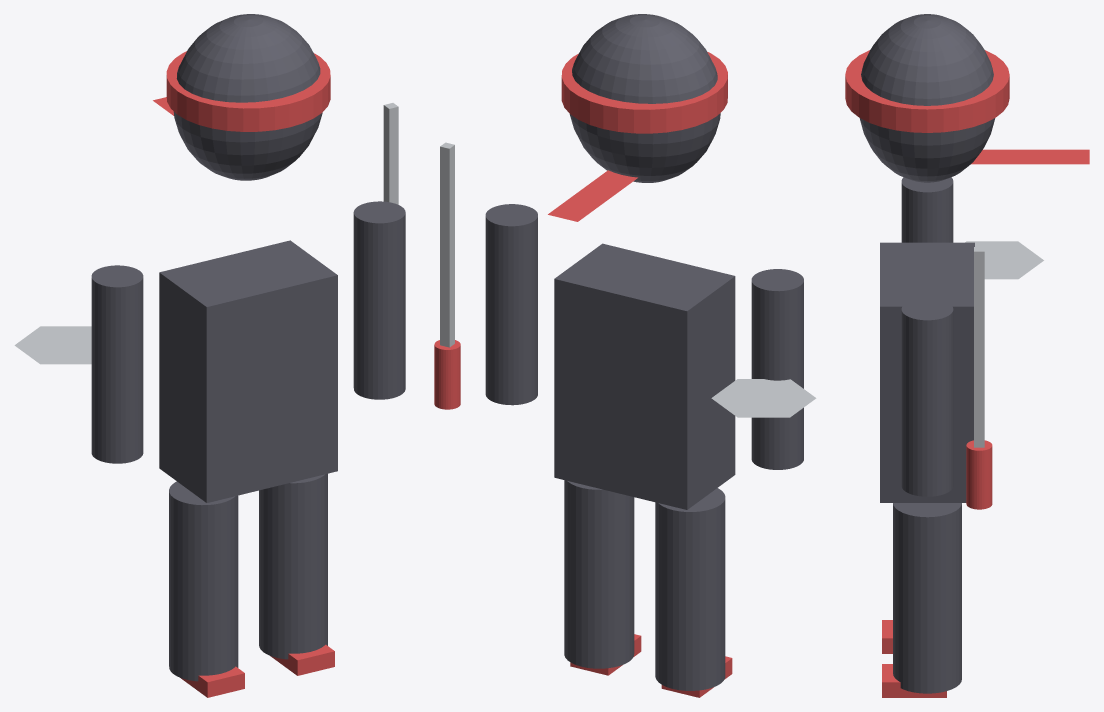
File: hero_ninja.glb
3 renders of one model, left to right at view 1: azimuth 30°, elevation 25°; view 2: azimuth 150°, elevation 25°; view 3: azimuth 270°, elevation 25°, orthographic.
Visible parts, largest first — view 1: Ninja_Body, Ninja_Head, Ninja_Leg_L, Ninja_Leg_R, Ninja_Arm_L, Ninja_Arm_R, Ninja_Headband, Ninja_Shuriken, Ninja_Katana, Ninja_Sandal_L, Ninja_Sandal_R; view 2: Ninja_Body, Ninja_Head, Ninja_Leg_L, Ninja_Leg_R, Ninja_Arm_R, Ninja_Arm_L, Ninja_Headband, Ninja_Shuriken, Ninja_Katana, Ninja_Scarf, Ninja_KatanaHandle; view 3: Ninja_Head, Ninja_Body, Ninja_Leg_R, Ninja_Arm_R, Ninja_Headband, Ninja_Arm_L, Ninja_Katana, Ninja_Shuriken, Ninja_Scarf, Ninja_KatanaHandle, Ninja_Sandal_R.
Part boxes in pixels (bbox=[...]): Ninja_Body: bbox=[159, 240, 337, 502]; Ninja_Head: bbox=[173, 14, 322, 180]; Ninja_Leg_L: bbox=[169, 481, 238, 681]; Ninja_Leg_R: bbox=[259, 473, 327, 659]; Ninja_Arm_L: bbox=[91, 265, 143, 463]; Ninja_Arm_R: bbox=[353, 201, 405, 399]; Ninja_Headband: bbox=[166, 51, 330, 131]; Ninja_Shuriken: bbox=[14, 326, 91, 364]; Ninja_Katana: bbox=[383, 103, 398, 204]; Ninja_Sandal_L: bbox=[180, 666, 244, 697]; Ninja_Sandal_R: bbox=[270, 644, 334, 675]; Ninja_Body: bbox=[554, 243, 735, 509]; Ninja_Head: bbox=[569, 14, 720, 182]; Ninja_Leg_L: bbox=[655, 488, 725, 690]; Ninja_Leg_R: bbox=[564, 480, 634, 668]; Ninja_Arm_R: bbox=[485, 204, 537, 405]; Ninja_Arm_L: bbox=[751, 269, 803, 469]; Ninja_Headband: bbox=[561, 52, 727, 133]; Ninja_Shuriken: bbox=[711, 379, 816, 417]; Ninja_Katana: bbox=[440, 142, 454, 347]; Ninja_Scarf: bbox=[548, 170, 637, 221]; Ninja_KatanaHandle: bbox=[434, 340, 460, 409]; Ninja_Head: bbox=[859, 14, 995, 182]; Ninja_Body: bbox=[880, 242, 974, 502]; Ninja_Leg_R: bbox=[893, 503, 961, 693]; Ninja_Arm_R: bbox=[901, 298, 953, 496]; Ninja_Headband: bbox=[845, 50, 1009, 132]; Ninja_Arm_L: bbox=[901, 177, 953, 242]; Ninja_Katana: bbox=[974, 247, 984, 447]; Ninja_Shuriken: bbox=[965, 241, 1043, 279]; Ninja_Scarf: bbox=[971, 149, 1089, 164]; Ninja_KatanaHandle: bbox=[966, 440, 992, 509]; Ninja_Sandal_R: bbox=[882, 664, 946, 697].
Size of the model in its own units: 0.9839 by 1.65 by 0.565.
